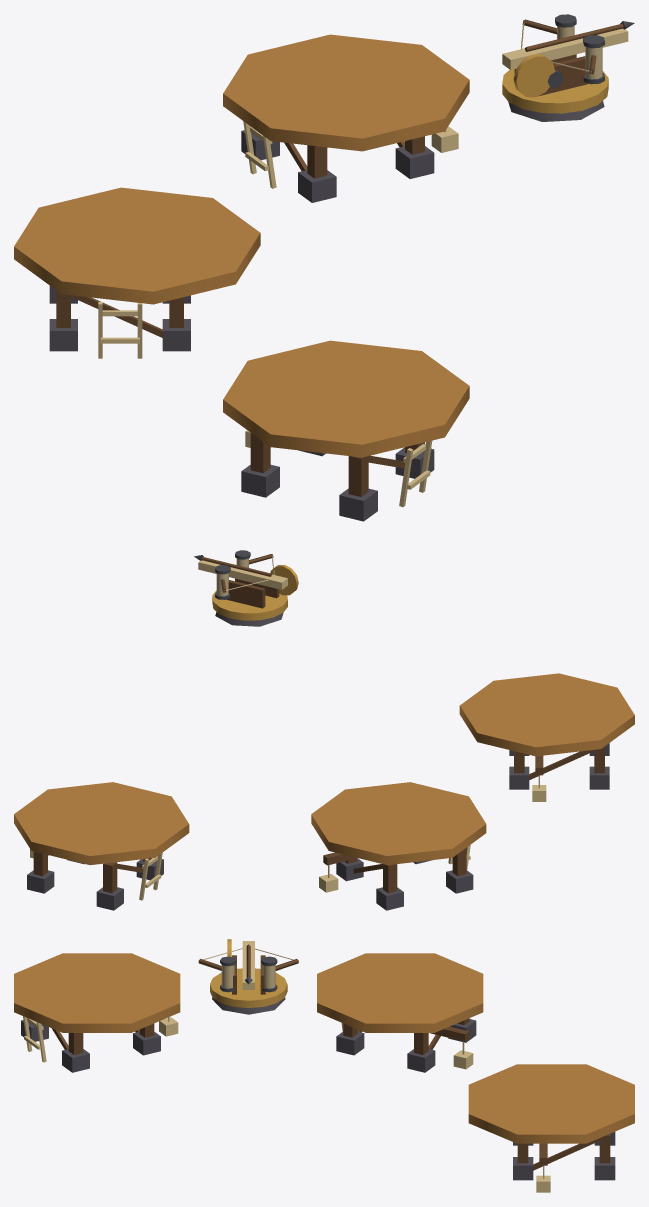
Rendered from base_builder_weapon_2.glb.
3 views of the same model, one above another, from view 1: azimuth 30°, elevation 25°; view 2: azimuth 150°, elevation 25°; view 3: azimuth 270°, elevation 25° (orthographic). The views are drawn at different scales.
Visible parts, largest first — view 1: tower_slot_3_plate, tower_slot_2_plate, tower_slot_1_plate, weapon_mount_gear, stock, gear_big, tower_slot_3_foot_2, tower_slot_2_foot_0, tower_slot_2_foot_1, tower_slot_3_foot_3, frame_cheek_l, tower_slot_1_foot_1 (+3 smaller); view 2: tower_slot_2_plate, tower_slot_1_plate, tower_slot_3_plate, weapon_mount_gear, stock, frame_cheek_r, tower_slot_1_foot_1, tower_slot_3_foot_1, tower_slot_1_foot_0, tower_slot_3_foot_0; view 3: tower_slot_2_plate, tower_slot_1_plate, tower_slot_3_plate, weapon_mount_gear, tower_slot_1_foot_3, tower_slot_1_foot_2, tower_slot_2_foot_2, tower_slot_2_foot_3, stock, tower_slot_3_foot_0, tower_slot_3_foot_2, weapon_mount (+1 smaller).
Part boxes in pixels (x1,y1,x2,y2): tower_slot_3_plate: [223, 34, 469, 151]; tower_slot_2_plate: [223, 340, 469, 457]; tower_slot_1_plate: [14, 187, 260, 304]; weapon_mount_gear: [502, 69, 608, 113]; stock: [502, 28, 628, 69]; gear_big: [513, 54, 555, 97]; tower_slot_3_foot_2: [395, 146, 434, 178]; tower_slot_2_foot_0: [241, 465, 279, 497]; tower_slot_2_foot_1: [339, 488, 377, 521]; tower_slot_3_foot_3: [298, 170, 336, 202]; frame_cheek_l: [538, 56, 589, 96]; tower_slot_1_foot_1: [49, 319, 77, 351]; tower_slot_2_plate: [459, 673, 634, 756]; tower_slot_1_plate: [311, 782, 486, 865]; tower_slot_3_plate: [14, 782, 189, 865]; weapon_mount_gear: [212, 590, 287, 620]; stock: [198, 560, 287, 589]; frame_cheek_r: [226, 580, 265, 608]; tower_slot_1_foot_1: [446, 870, 473, 893]; tower_slot_3_foot_1: [96, 887, 123, 910]; tower_slot_1_foot_0: [376, 887, 403, 910]; tower_slot_3_foot_0: [27, 870, 54, 893]; tower_slot_2_plate: [14, 953, 180, 1032]; tower_slot_1_plate: [317, 953, 483, 1032]; tower_slot_3_plate: [468, 1064, 634, 1143]; weapon_mount_gear: [210, 968, 287, 1008]; tower_slot_1_foot_3: [336, 1031, 364, 1055]; tower_slot_1_foot_2: [407, 1049, 435, 1072]; tower_slot_2_foot_2: [133, 1031, 160, 1055]; tower_slot_2_foot_3: [62, 1049, 89, 1072]; stock: [242, 941, 254, 989]; tower_slot_3_foot_0: [594, 1157, 615, 1180]; tower_slot_3_foot_2: [513, 1157, 533, 1180]; weapon_mount: [212, 997, 285, 1014].
Size of the model in its own units: 1.05 by 0.559 by 1.52.
